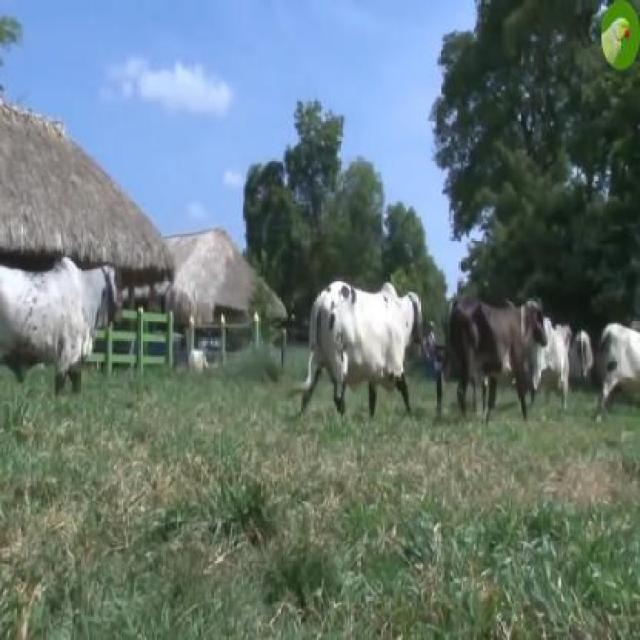Cow: (0, 258, 122, 400), (304, 285, 422, 423), (443, 294, 548, 411)
